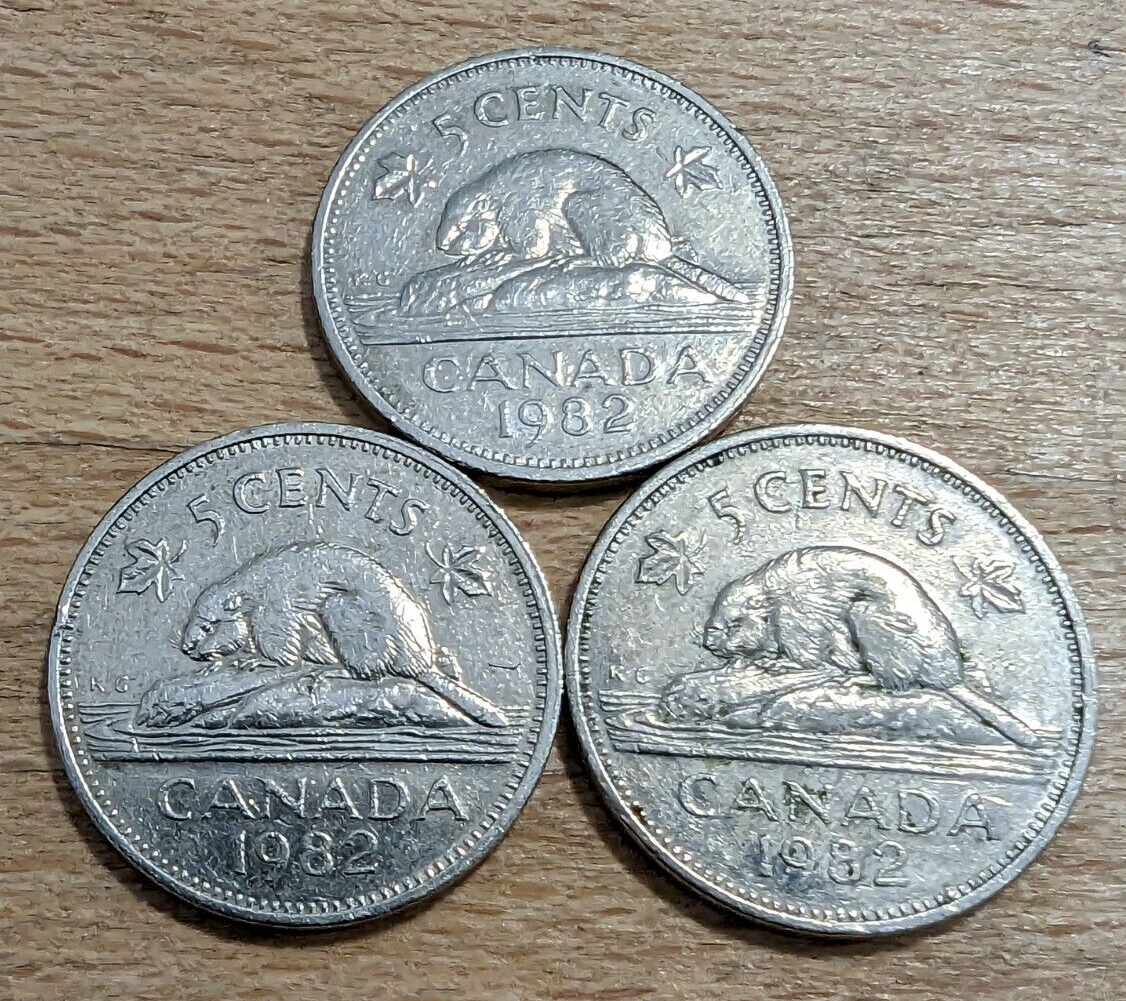coin: (565, 426, 1094, 934), (48, 423, 561, 925), (312, 49, 791, 482)
